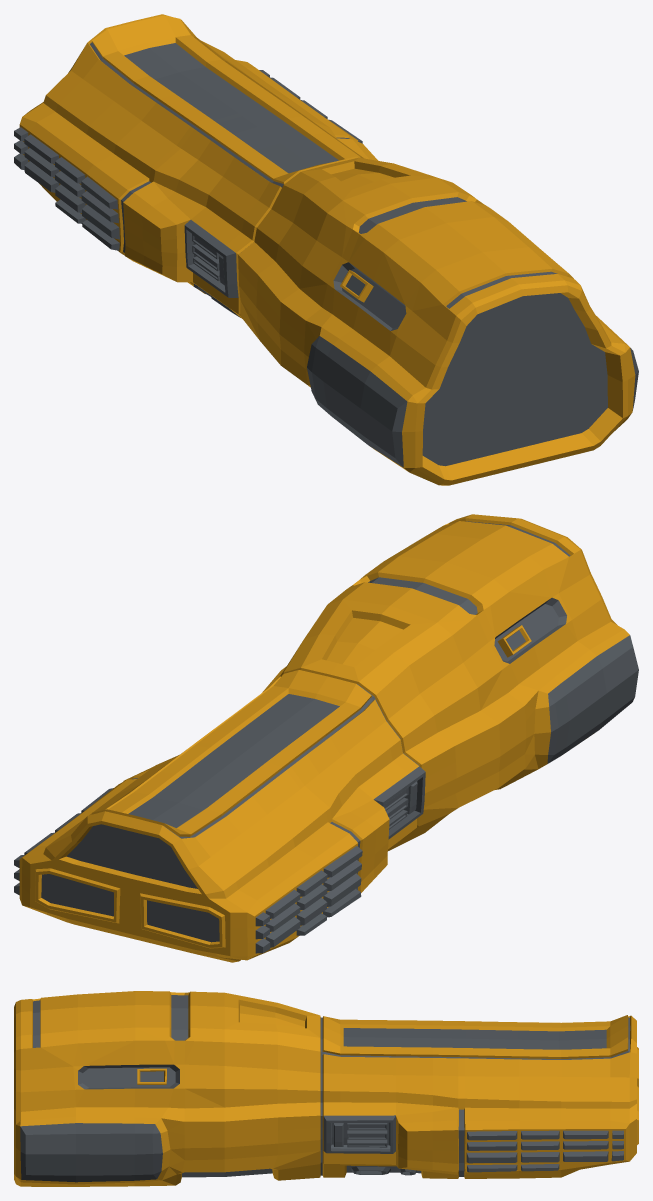
The model's file is Dropship_03__Yellow.fbx.
3 views of the same model, one above another, from view 1: azimuth 30°, elevation 25°; view 2: azimuth 150°, elevation 25°; view 3: azimuth 270°, elevation 25° (orthographic). The views are drawn at different scales.
Visible parts, largest first — view 1: Dropship_03__Yellow; view 2: Dropship_03__Yellow; view 3: Dropship_03__Yellow.
Part boxes in pixels (bbox=[...]): Dropship_03__Yellow: bbox=[14, 14, 638, 485]; Dropship_03__Yellow: bbox=[14, 514, 638, 962]; Dropship_03__Yellow: bbox=[14, 991, 638, 1186].
Size of the model in its own units: 395 by 287 by 1064.
2 materials, 2 textured.
